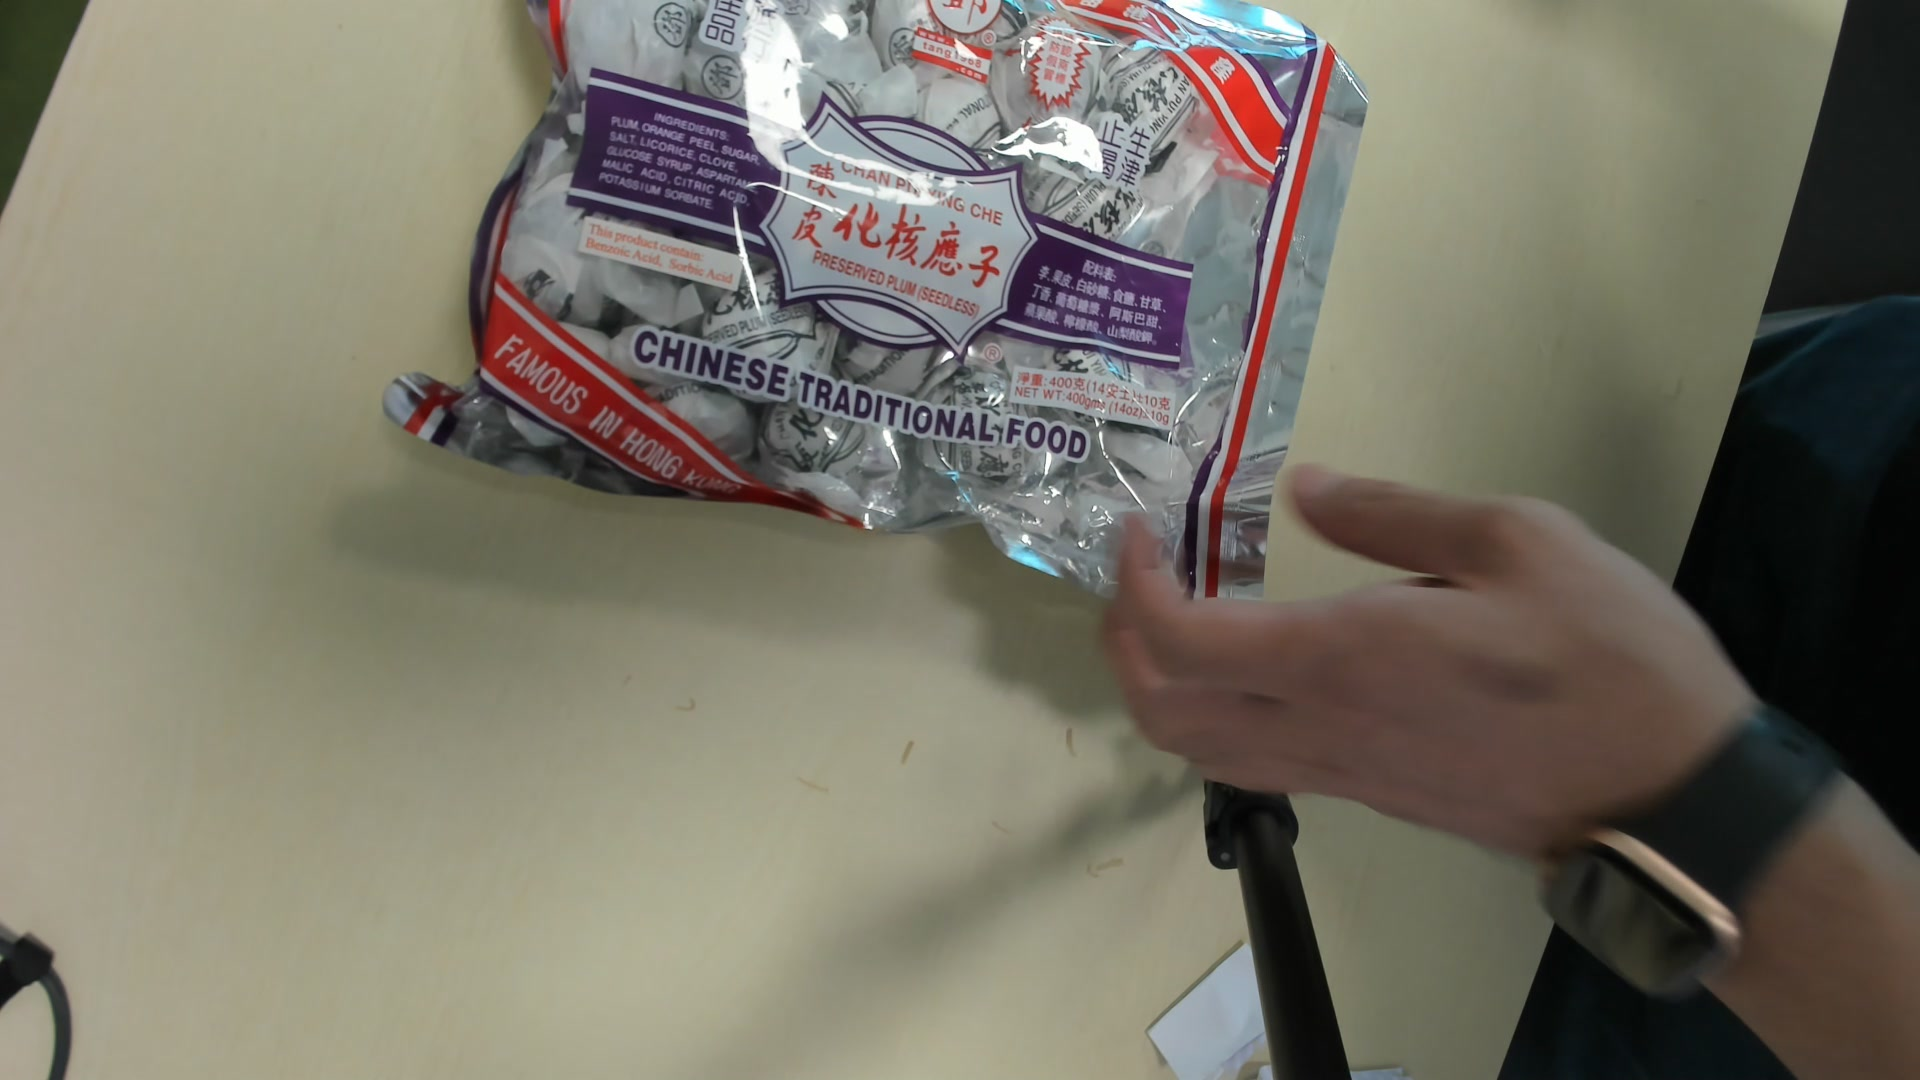SweetsChocolatesOthers_400-499g_NonHalal_Nonhealthy: (393, 7, 1369, 629)
